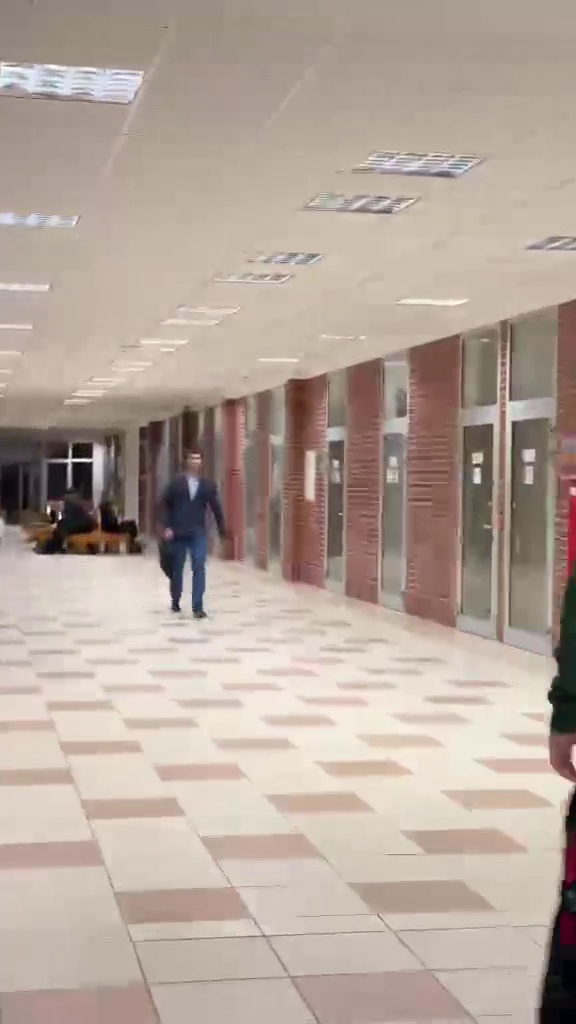no vest: (146, 444, 232, 612)
